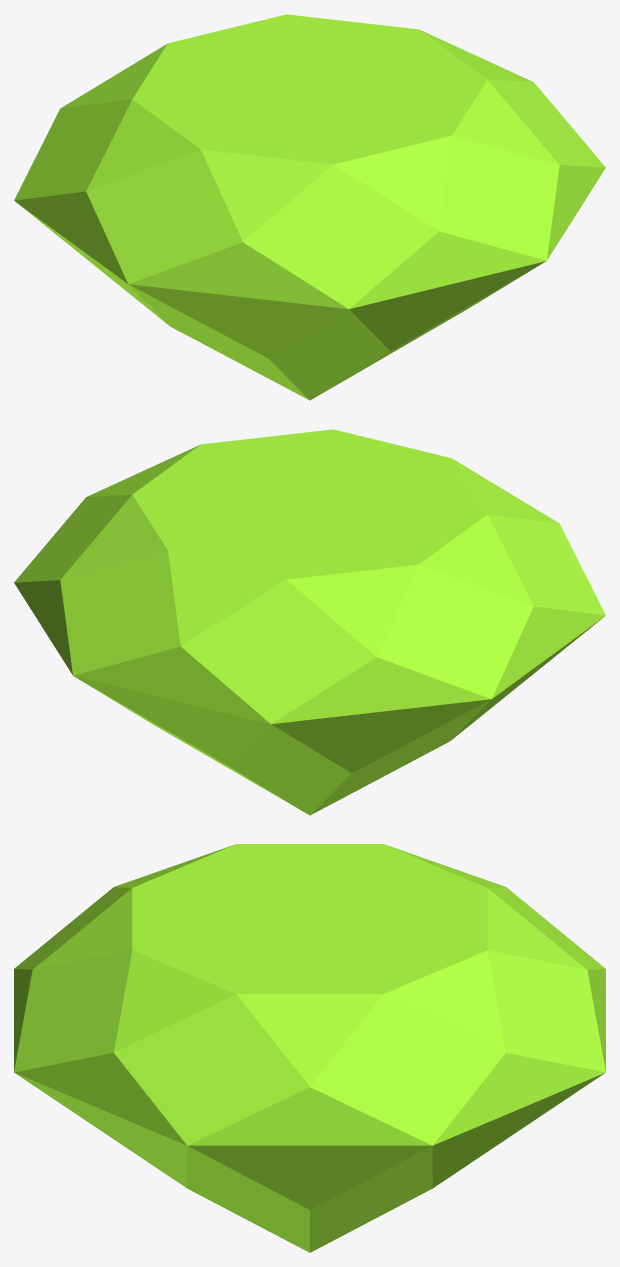
Rendered from Gem.obj.
3 views of the same model, one above another, from view 1: azimuth 30°, elevation 25°; view 2: azimuth 150°, elevation 25°; view 3: azimuth 270°, elevation 25° (orthographic). The views are drawn at different scales.
Parts seen in each view (by area): view 1: Gem; view 2: Gem; view 3: Gem.
Boxes of the visible parts, x1,y1,x2,y2 form: Gem: (14, 14, 605, 400); Gem: (14, 429, 605, 815); Gem: (14, 844, 605, 1252).
Size of the model in its own units: 1.85 by 1.15 by 1.85.
Materials: 1 (1 with a texture image).
